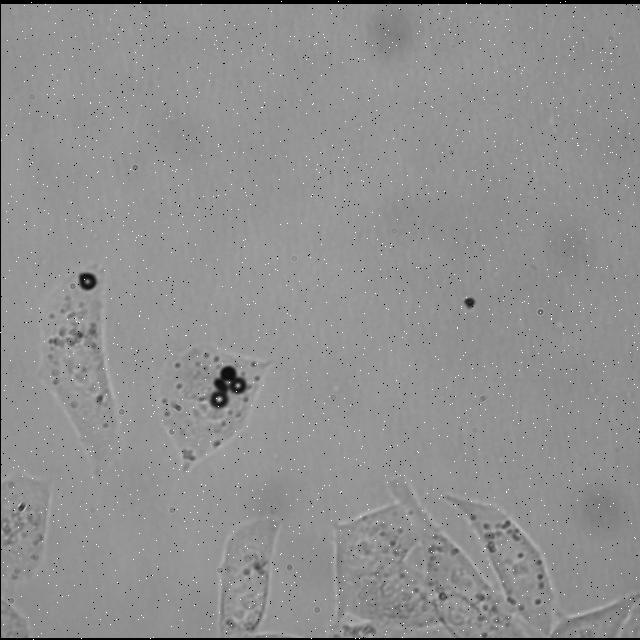microbeads: (76, 269, 96, 291), (210, 388, 227, 409), (230, 376, 244, 394)
